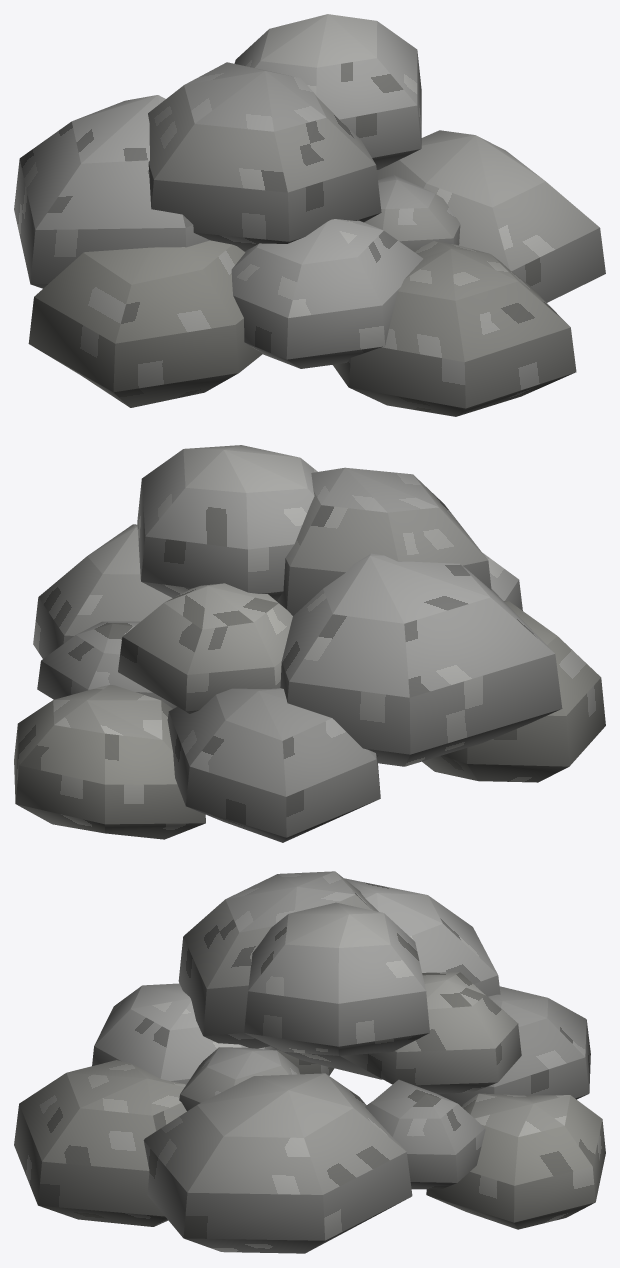
Rendered from f_rubble_rock.glb.
The picture shows the model from 3 angles, top to bottom: view 1: azimuth 30°, elevation 25°; view 2: azimuth 150°, elevation 25°; view 3: azimuth 270°, elevation 25°; orthographic projection. The views are drawn at different scales.
Visible parts, largest first — view 1: f_rubble_rock_mesh; view 2: f_rubble_rock_mesh; view 3: f_rubble_rock_mesh.
Boxes of the visible parts, x1,y1,x2,y2 form: f_rubble_rock_mesh: (14, 14, 605, 416); f_rubble_rock_mesh: (14, 445, 605, 842); f_rubble_rock_mesh: (14, 871, 605, 1253).
Bounding box in the file's own units: 0.7815 × 0.4596 × 0.8144.
1 material, 1 textured.
